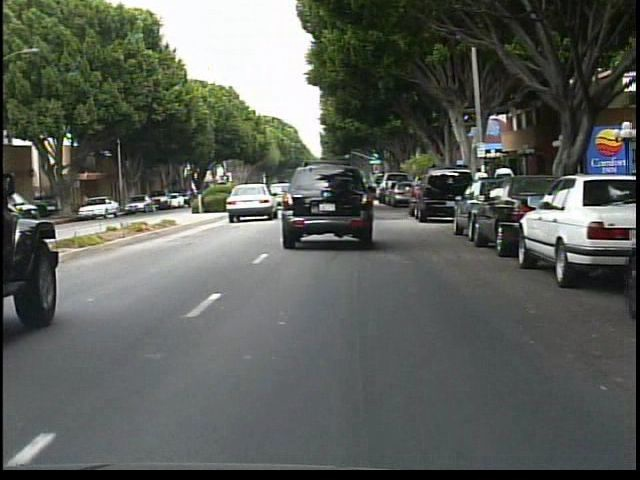person: (493, 160, 516, 213), (471, 165, 491, 210), (77, 189, 95, 221)
